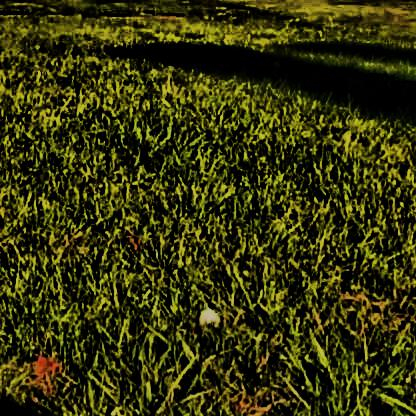golfball: (195, 304, 218, 323)
